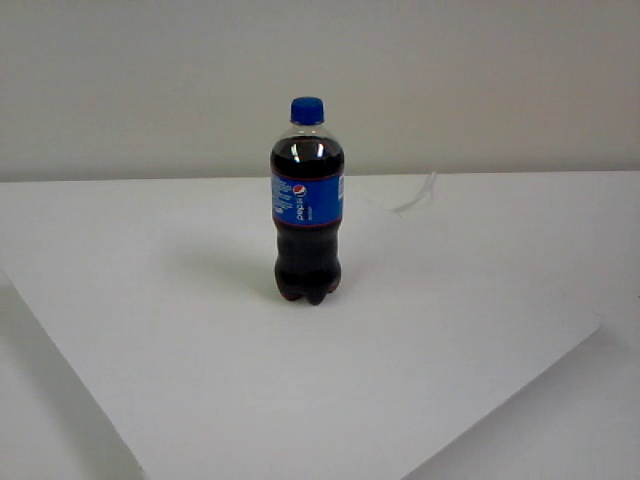botolplastik: (271, 98, 344, 305)
